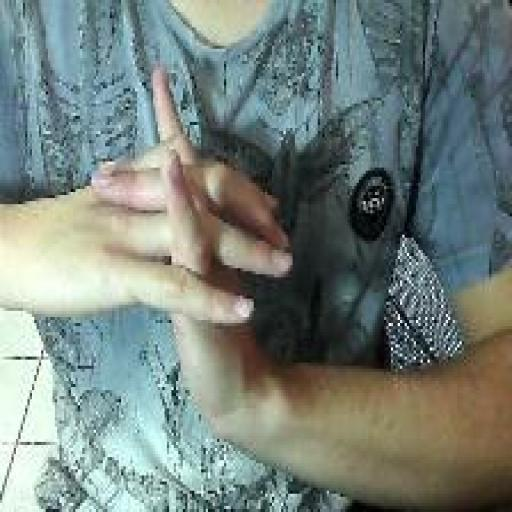Ushi -ox-: (90, 61, 296, 457)
